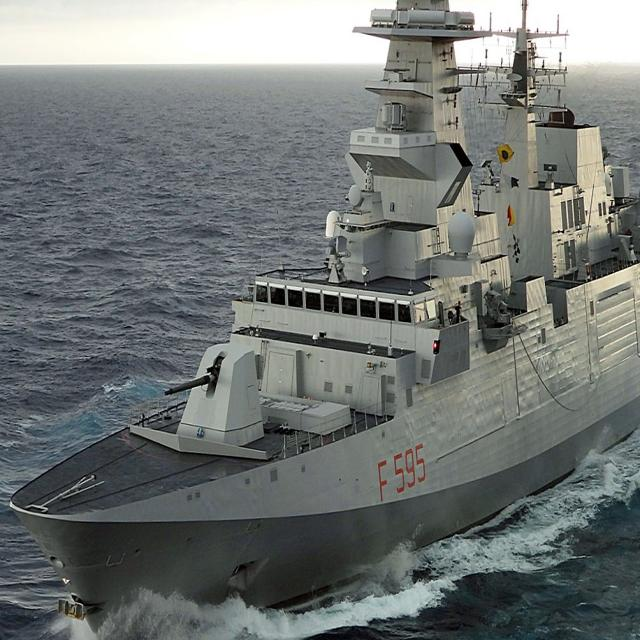Fragata: (1, 1, 522, 640)
